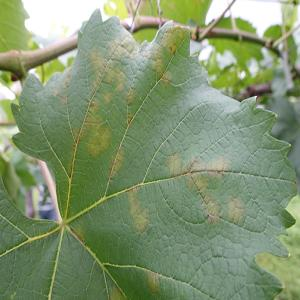Folha: (0, 9, 298, 299)
Fungo: (167, 150, 245, 226), (82, 46, 113, 91), (110, 32, 142, 68), (127, 188, 149, 235), (49, 66, 73, 108), (156, 18, 182, 56), (112, 78, 142, 107), (86, 124, 111, 158), (226, 195, 246, 225), (203, 194, 221, 224), (108, 148, 124, 180), (150, 57, 171, 78), (72, 222, 87, 246), (146, 271, 161, 294)
